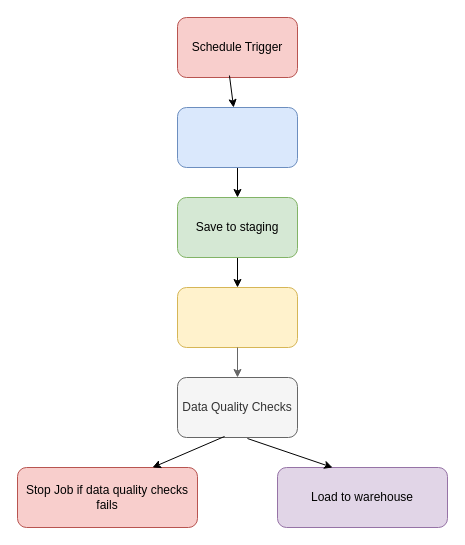
This 465x545 diagram has some shape labels left out. Here are the shapes that lost their labels. From the top down, the centre of each, then its label:
At pixel 237 137: "Pull Data from Source".
At pixel 237 317: "Transform & validate data".
